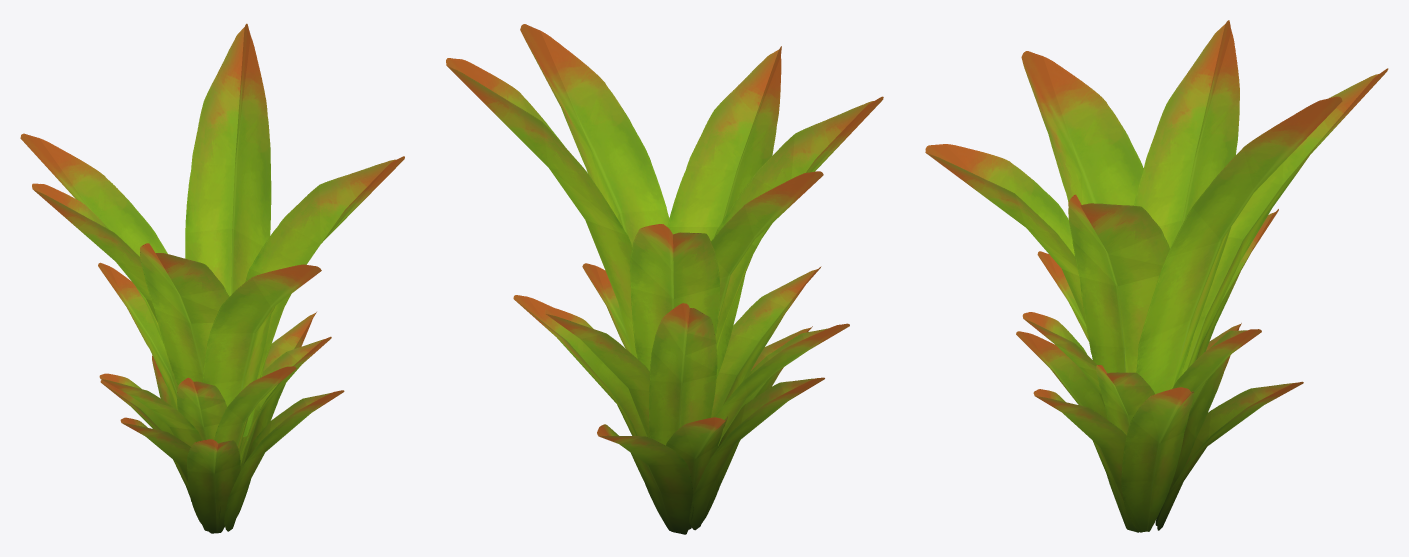
The model's file is Plant_1_Big.glb.
3 views of the same model, side by side, from view 1: azimuth 30°, elevation 25°; view 2: azimuth 150°, elevation 25°; view 3: azimuth 270°, elevation 25° (orthographic). The views are drawn at different scales.
Size of the model in its own units: 1.81 by 2.35 by 1.95.
Materials: 1 (1 with a texture image).
